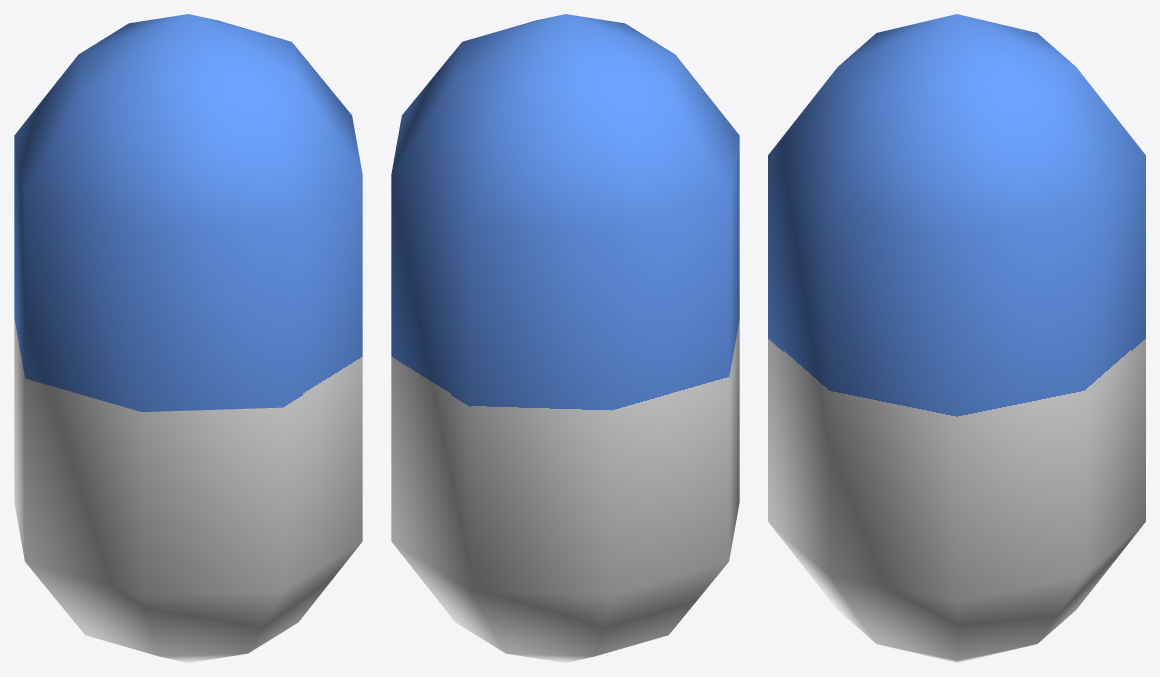
Rendered from Pill.fbx.
3 renders of one model, left to right at view 1: azimuth 30°, elevation 25°; view 2: azimuth 150°, elevation 25°; view 3: azimuth 270°, elevation 25°, orthographic.
Visible parts, largest first — view 1: Pill; view 2: Pill; view 3: Pill.
Part boxes in pixels (x1,y1,x2,y2): Pill: (14,14,362,662); Pill: (391,14,739,662); Pill: (768,14,1145,662).
Size of the model in its own units: 320 by 320 by 606.
